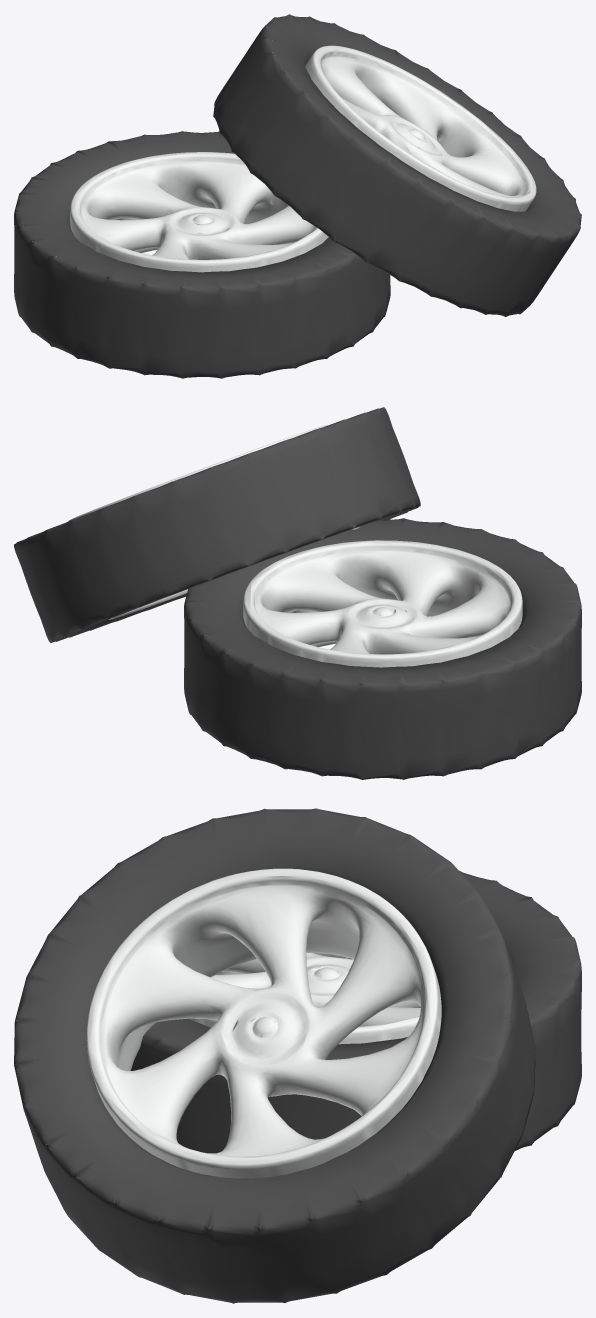
The model's file is llantas.glb.
The picture shows the model from 3 angles, top to bottom: view 1: azimuth 30°, elevation 25°; view 2: azimuth 150°, elevation 25°; view 3: azimuth 270°, elevation 25°; orthographic projection. The views are drawn at different scales.
Parts seen in each view (by area): view 1: llanta2, llanta1, metal1, metal2; view 2: llanta1, llanta2, metal1, metal2; view 3: llanta2, metal2, llanta1, metal1.
Part boxes in pixels (x1,y1,x2,y2): llanta2: (213,14,581,316); llanta1: (14,131,390,378); metal1: (70,152,328,272); metal2: (304,45,536,211); llanta1: (184,518,581,779); llanta2: (14,407,420,642); metal1: (243,540,522,667); metal2: (68,425,360,619); llanta2: (14,808,535,1303); metal2: (86,868,441,1228); llanta1: (131,870,581,1153); metal1: (158,953,420,1044).
Bounding box in the file's own units: 705 × 348 × 512.
Materials: 2 (2 with a texture image).
